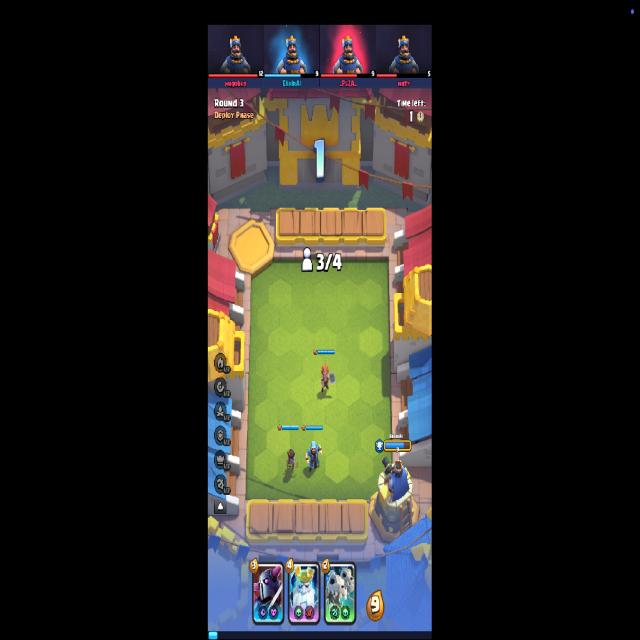card_pekka: (252, 560, 284, 626)
card_royal_ghost: (288, 561, 320, 625)
card_skeleton_dragon: (324, 561, 356, 626)
princess: (287, 448, 299, 473)
valkyrie: (320, 364, 336, 392)
wizard: (305, 440, 322, 471)
